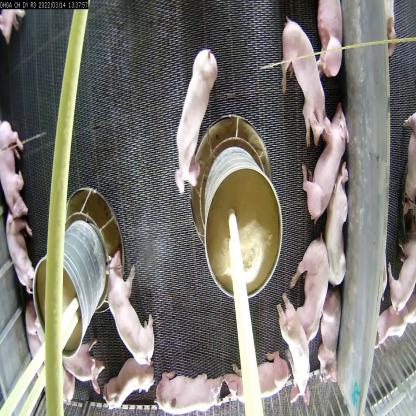Pig: (172, 44, 212, 201), (276, 22, 326, 141), (107, 239, 156, 357), (303, 105, 351, 224), (282, 229, 327, 332), (25, 301, 71, 400), (278, 301, 317, 416), (0, 212, 44, 309), (324, 169, 355, 290), (232, 343, 284, 415), (158, 365, 227, 415), (56, 330, 98, 410), (0, 119, 34, 215), (105, 348, 153, 416), (320, 298, 350, 392), (312, 0, 339, 83)
